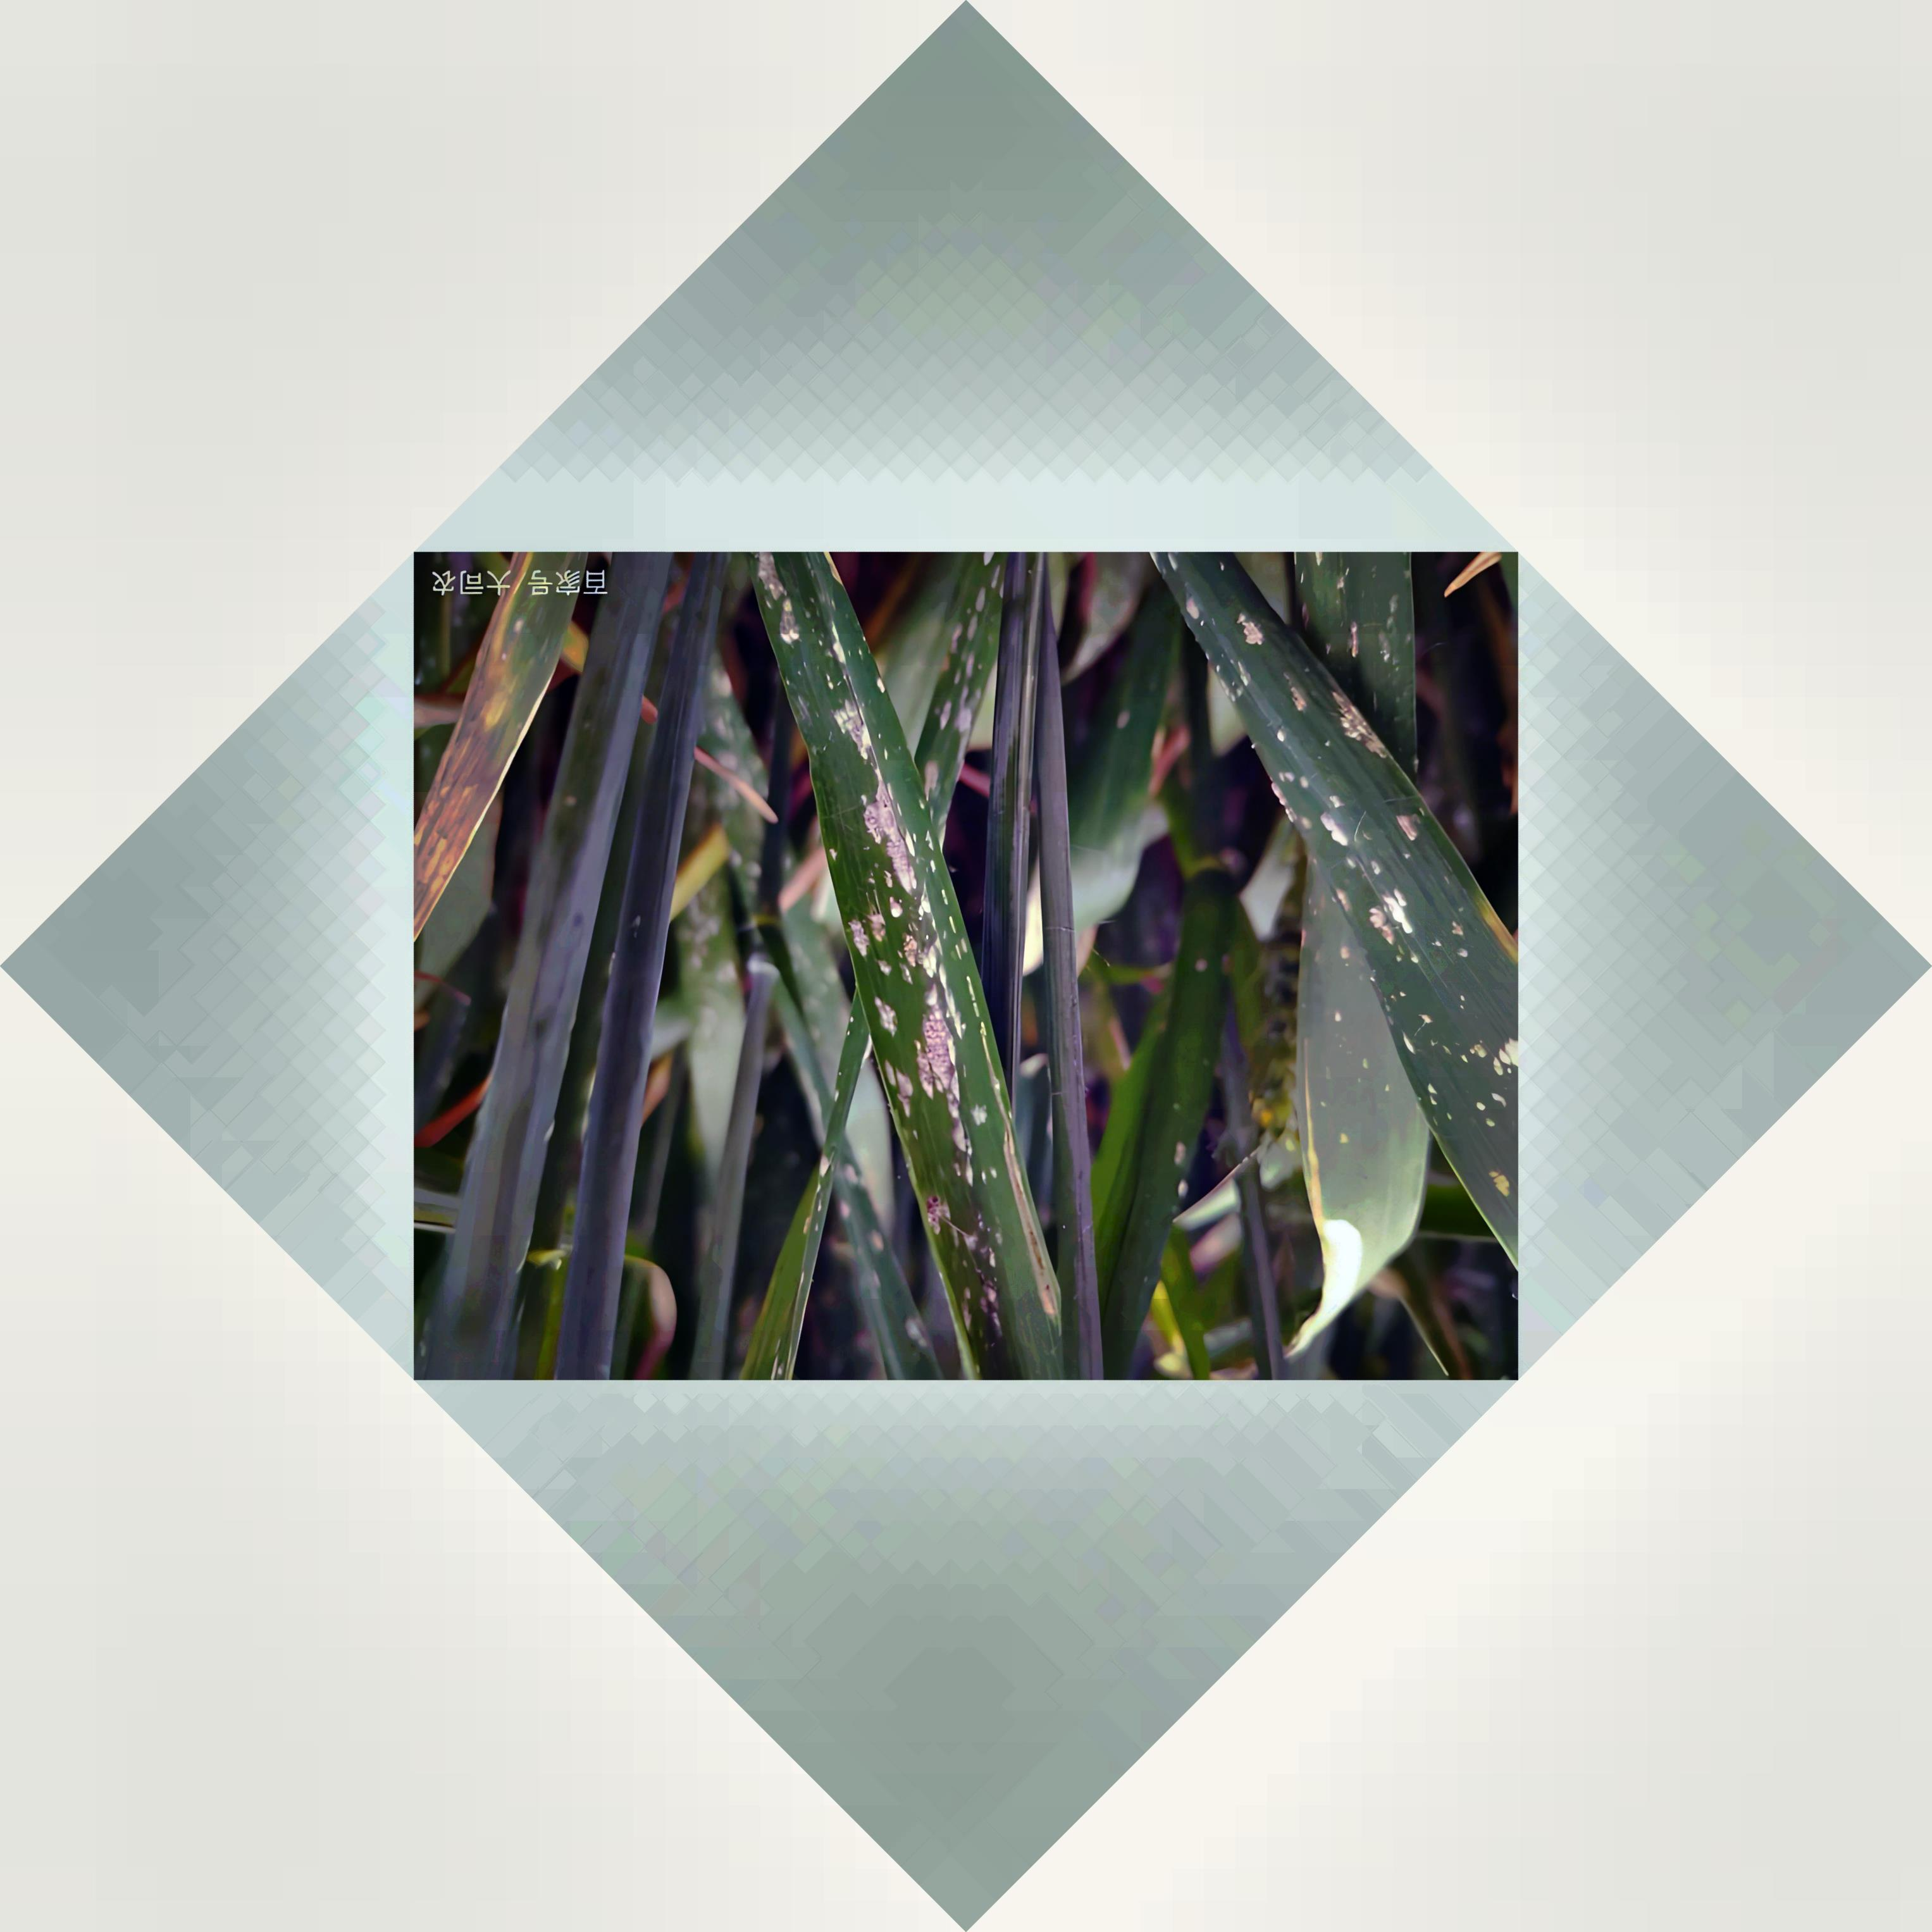Powdery Mildew: (810, 695, 1069, 1309)
